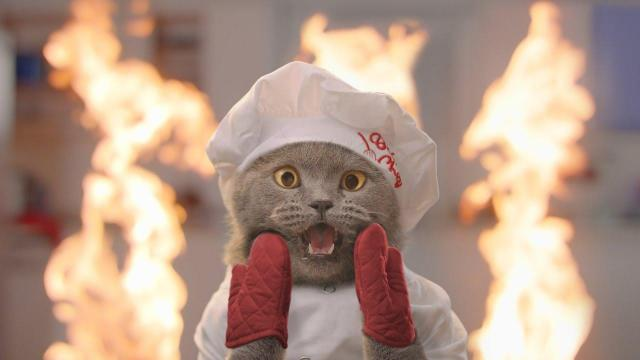cat: (228, 142, 402, 286)
